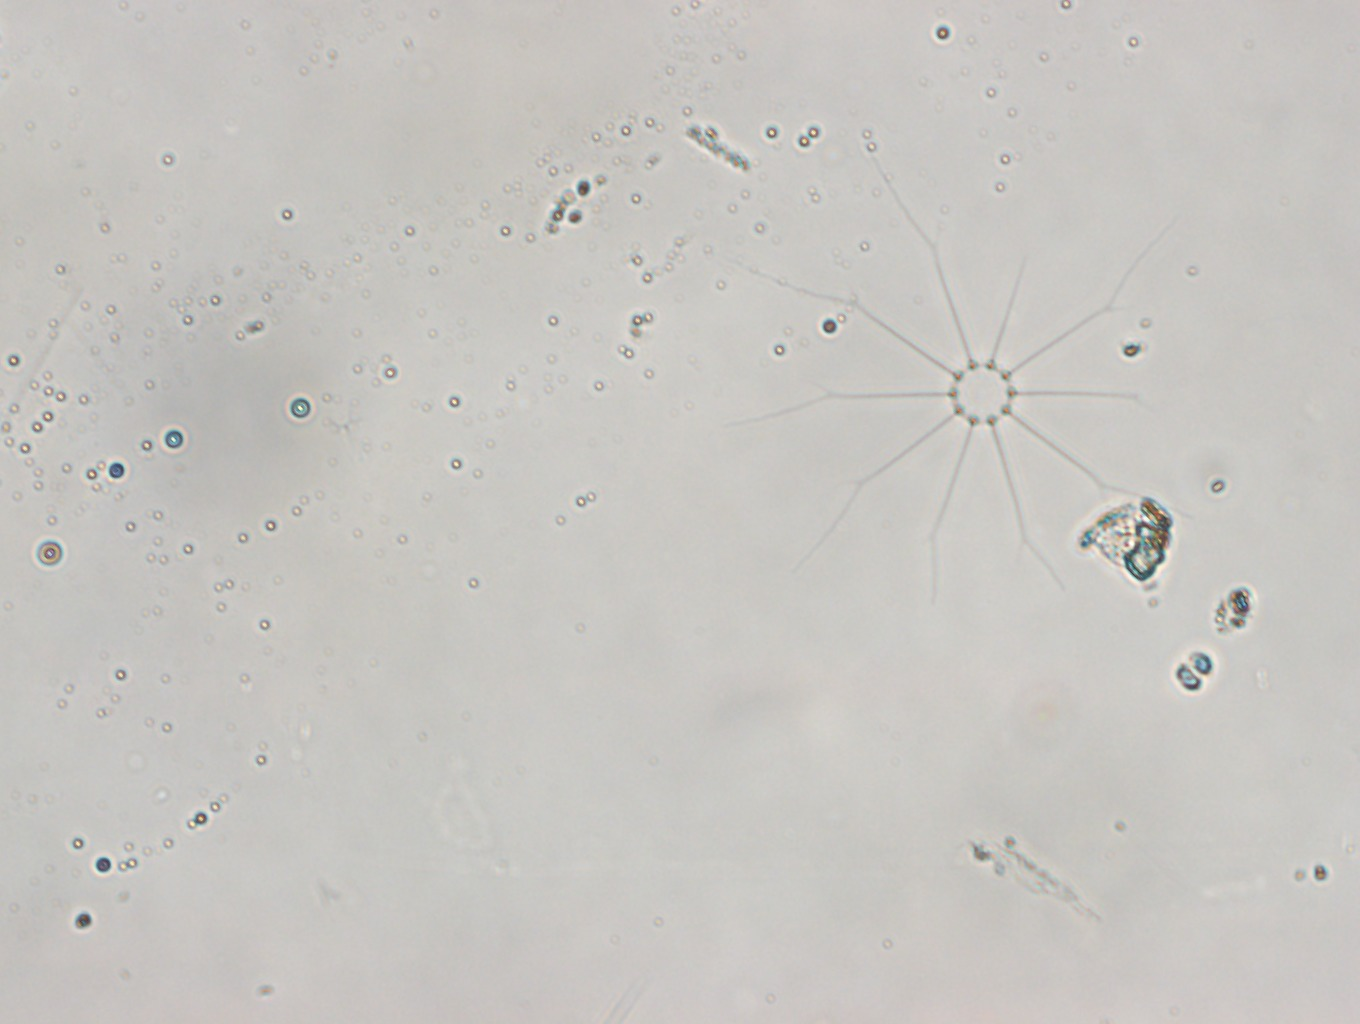bacteriastrum: (747, 160, 1174, 606)
